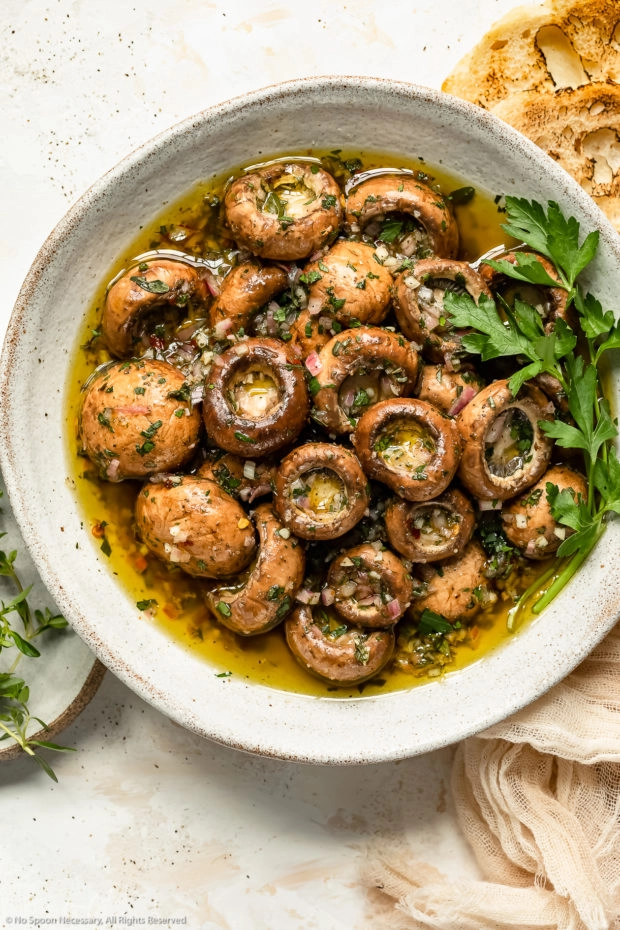mushroom-white: (81, 164, 588, 689)
